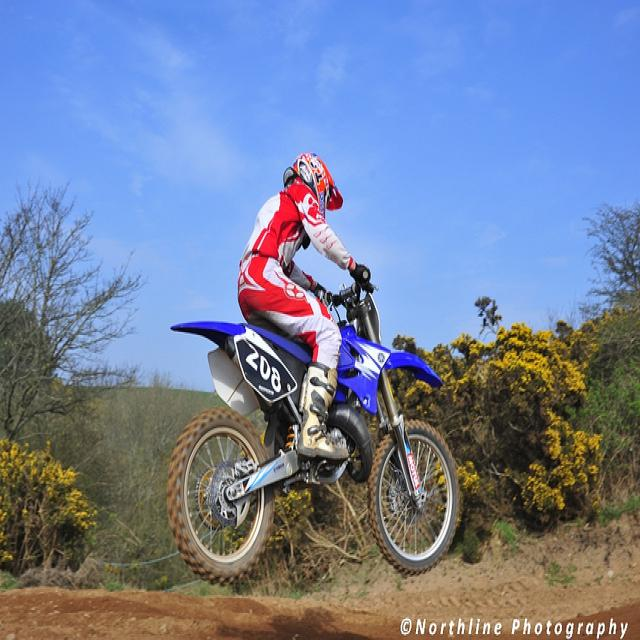motor: (166, 265, 460, 587)
